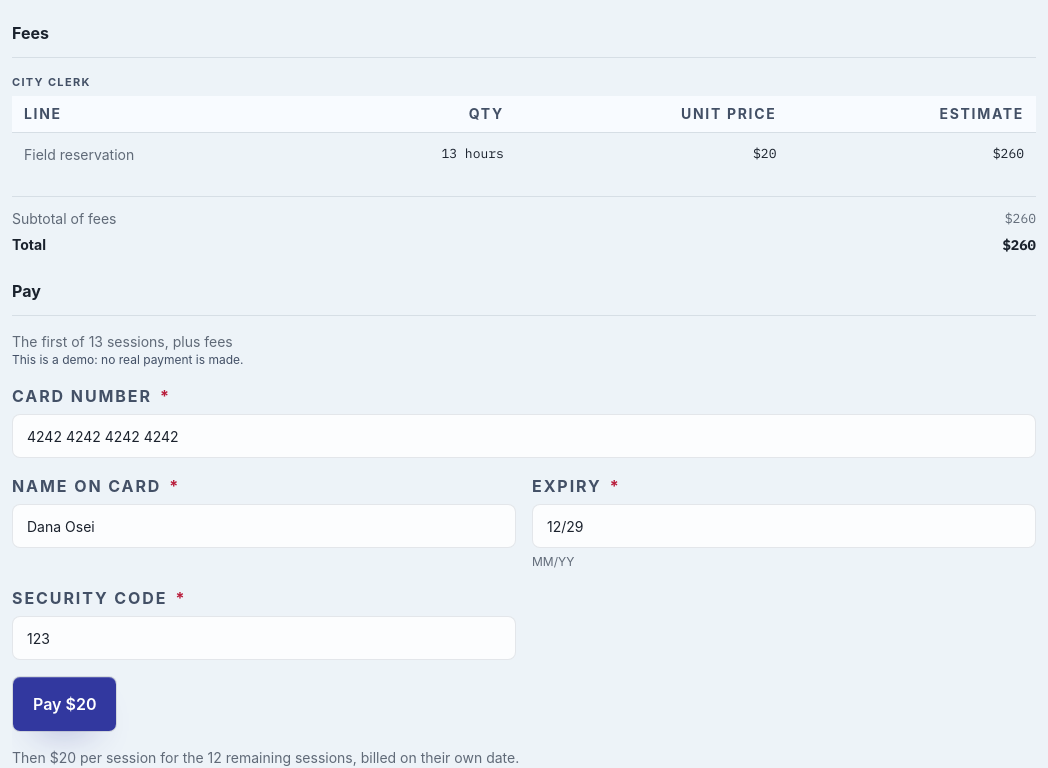
Scenario: CheckoutScreen: the moment after paying, before the next page arrives › booking: says it is booked and paid, with the way to the permit, never "Nothing to pay here"
(page scrolled)
Click the button "Pay $20": (65, 704) [12,676,118,732]
(page scrolled)
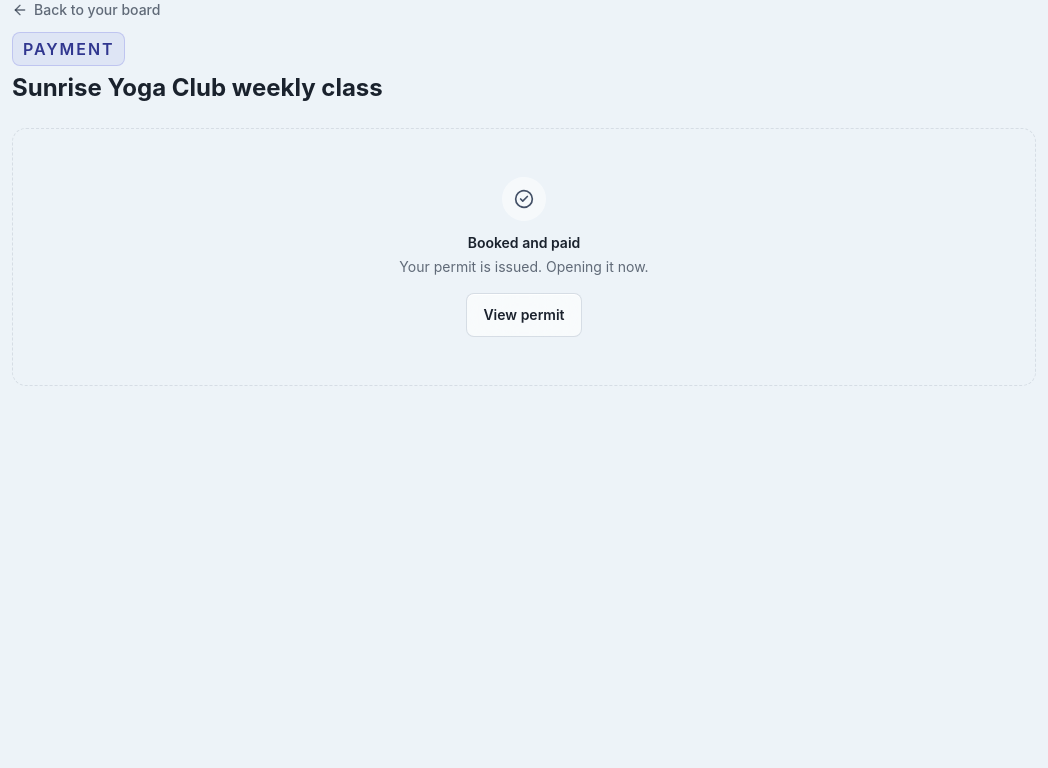
Now the text "Booked and paid" is shown, box [468,234,580,251]
